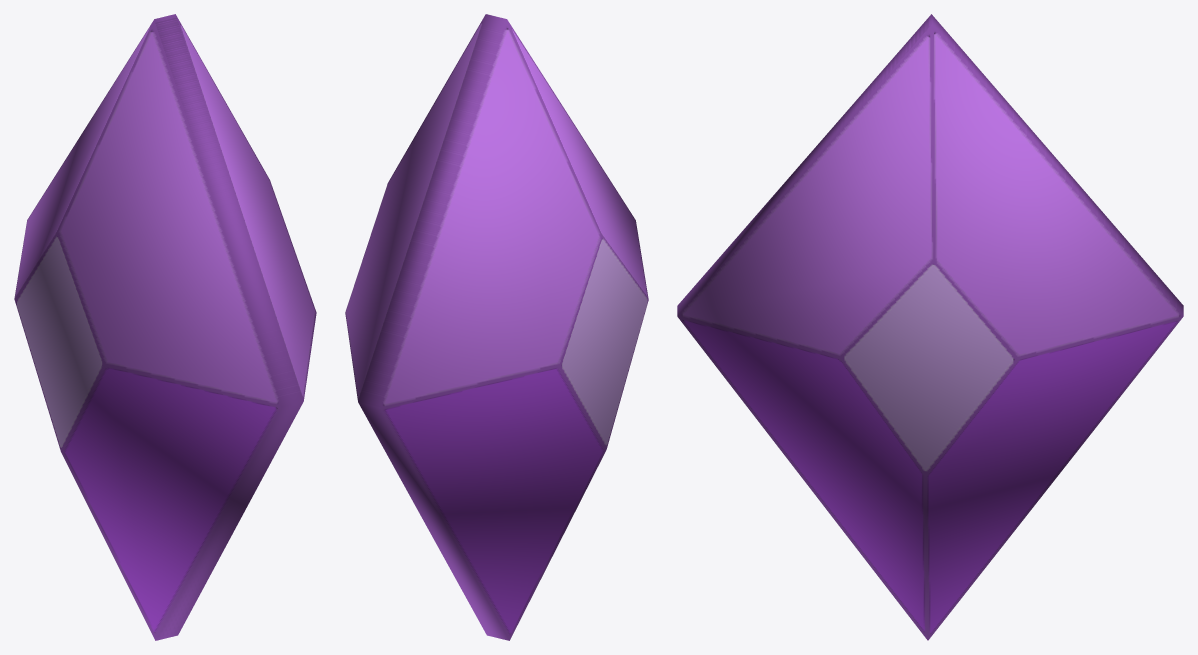
The model's file is doggy_crystals.glb.
3 views of the same model, side by side, from view 1: azimuth 30°, elevation 25°; view 2: azimuth 150°, elevation 25°; view 3: azimuth 270°, elevation 25° (orthographic).
Parts seen in each view (by area): view 1: generosity.mdl.cleaner.materialmerger.gles; view 2: generosity.mdl.cleaner.materialmerger.gles; view 3: generosity.mdl.cleaner.materialmerger.gles.
Boxes of the visible parts, x1=… form: generosity.mdl.cleaner.materialmerger.gles: x1=14, y1=14, x2=316, y2=640; generosity.mdl.cleaner.materialmerger.gles: x1=345, y1=14, x2=648, y2=640; generosity.mdl.cleaner.materialmerger.gles: x1=677, y1=14, x2=1183, y2=640.
Bounding box in the file's own units: 0.0241 × 0.0669 × 0.0498.
Materials: 1 (1 with a texture image).
